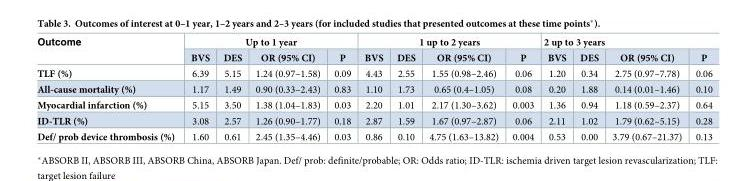table: (36, 36, 711, 141)
table column: (36, 36, 182, 141), (604, 36, 688, 141), (421, 36, 504, 141), (248, 36, 326, 141), (504, 36, 538, 141), (538, 36, 572, 141), (182, 36, 215, 141), (215, 36, 248, 141), (357, 36, 389, 141), (389, 36, 421, 141), (572, 36, 604, 141), (326, 36, 357, 141), (688, 36, 711, 141)
table column header: (36, 36, 711, 65)
table row: (36, 49, 711, 65), (36, 65, 711, 81), (36, 81, 711, 97), (36, 112, 711, 128), (36, 97, 711, 112), (36, 36, 711, 49), (36, 128, 711, 141)
table spanning cell: (36, 36, 182, 65), (357, 36, 538, 49), (182, 36, 357, 49), (538, 36, 711, 49)
